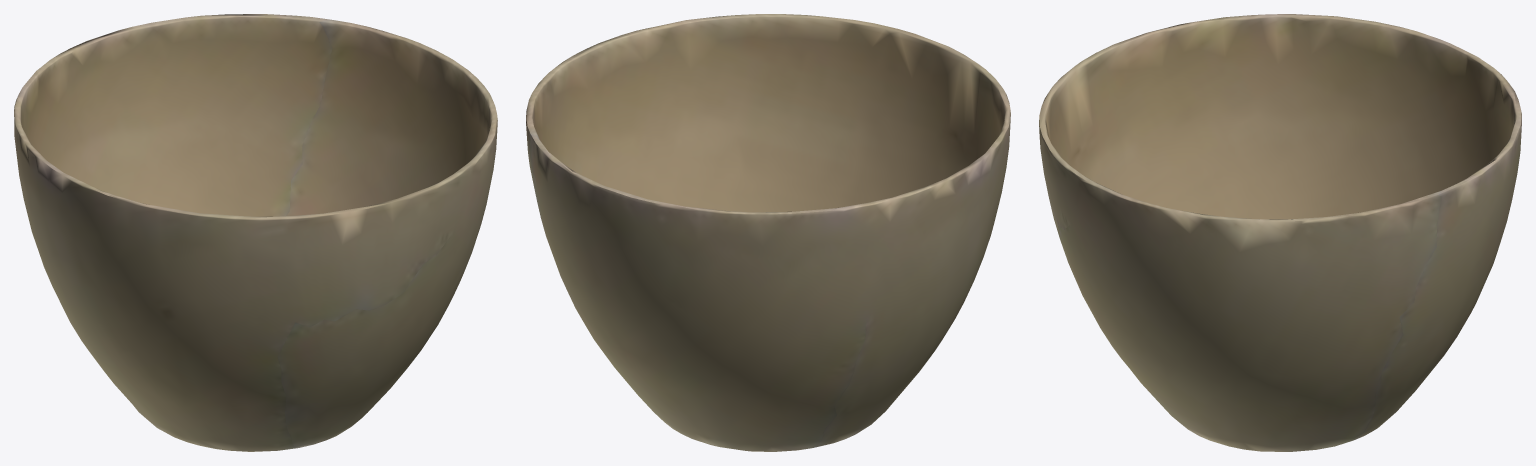
File: Ecoforms_Planter_Bowl_Cole_Hardware-high.glb
3 renders of one model, left to right at view 1: azimuth 30°, elevation 25°; view 2: azimuth 150°, elevation 25°; view 3: azimuth 270°, elevation 25°, orthographic.
Visible parts, largest first — view 1: Ecoforms_Planter_Bowl_Cole_Hardware; view 2: Ecoforms_Planter_Bowl_Cole_Hardware; view 3: Ecoforms_Planter_Bowl_Cole_Hardware.
Part boxes in pixels (<box>): Ecoforms_Planter_Bowl_Cole_Hardware: <box>14,14,497,451</box>; Ecoforms_Planter_Bowl_Cole_Hardware: <box>526,14,1010,451</box>; Ecoforms_Planter_Bowl_Cole_Hardware: <box>1039,14,1521,451</box>.
Size of the model in its own units: 0.1799 by 0.1215 by 0.1807.
1 material, 1 textured.
